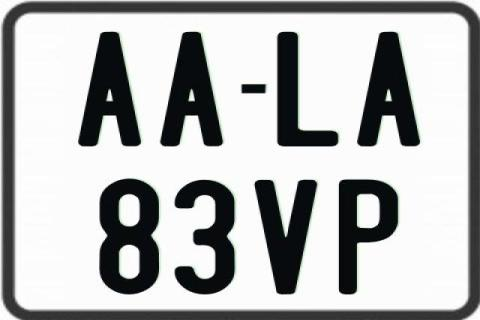0: (96, 178, 162, 296), (174, 179, 238, 295)
A: (158, 29, 228, 149), (356, 30, 421, 150), (75, 32, 139, 150)
L: (276, 30, 338, 146)
P: (339, 177, 398, 297)
V: (255, 179, 322, 299)
